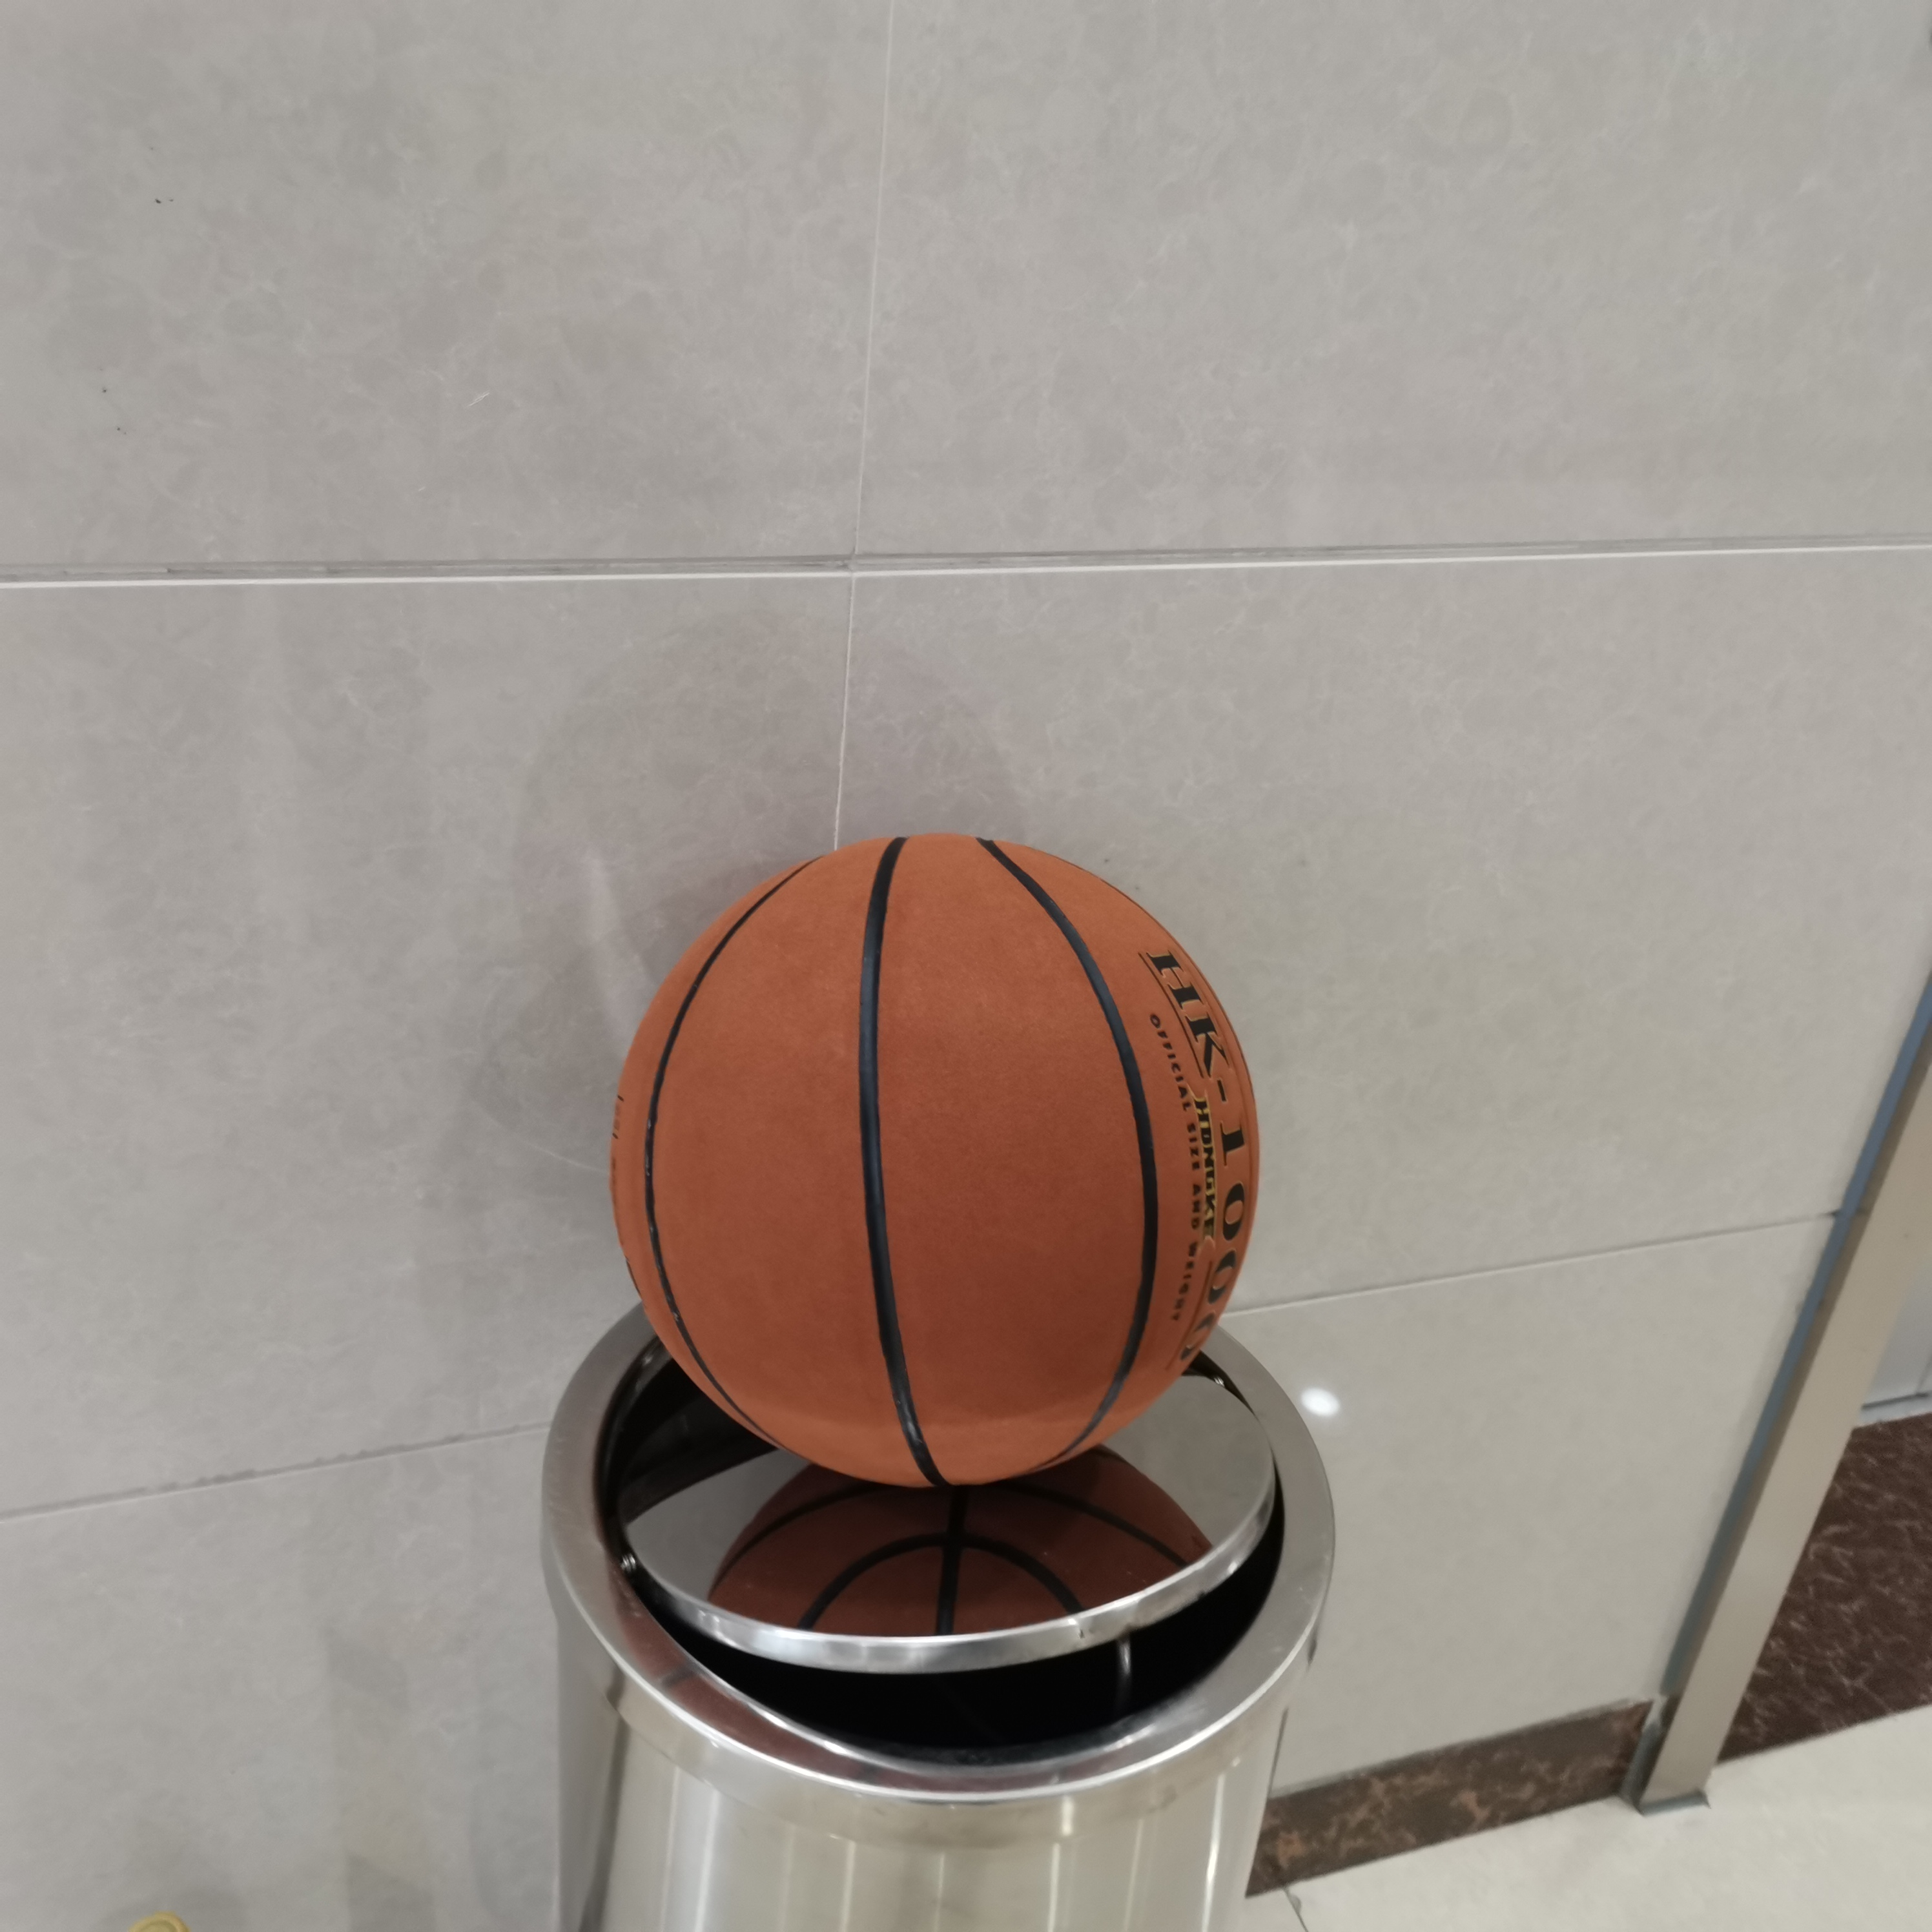basketball: (614, 832, 1260, 1491)
